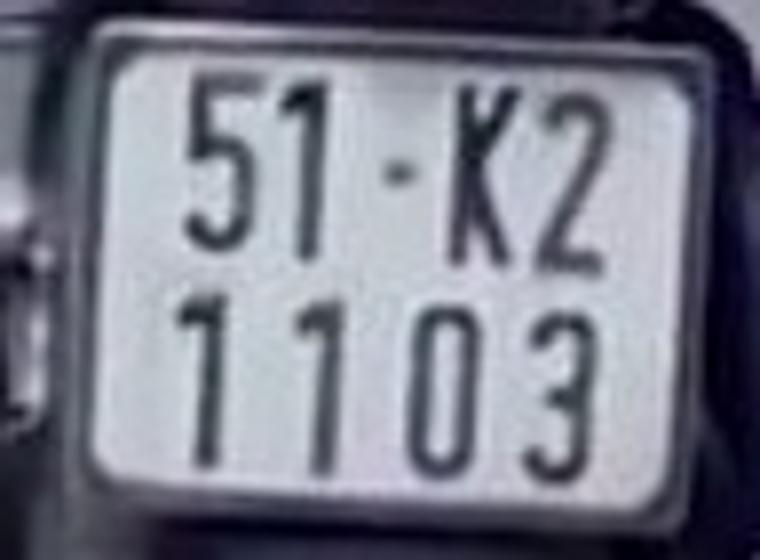-: (370, 151, 427, 192)
0: (397, 296, 488, 483)
1: (167, 292, 237, 477), (278, 74, 342, 268), (287, 301, 351, 481)
2: (537, 78, 617, 279)
3: (520, 302, 605, 484)
5: (180, 71, 275, 256)
K: (447, 76, 525, 274)
